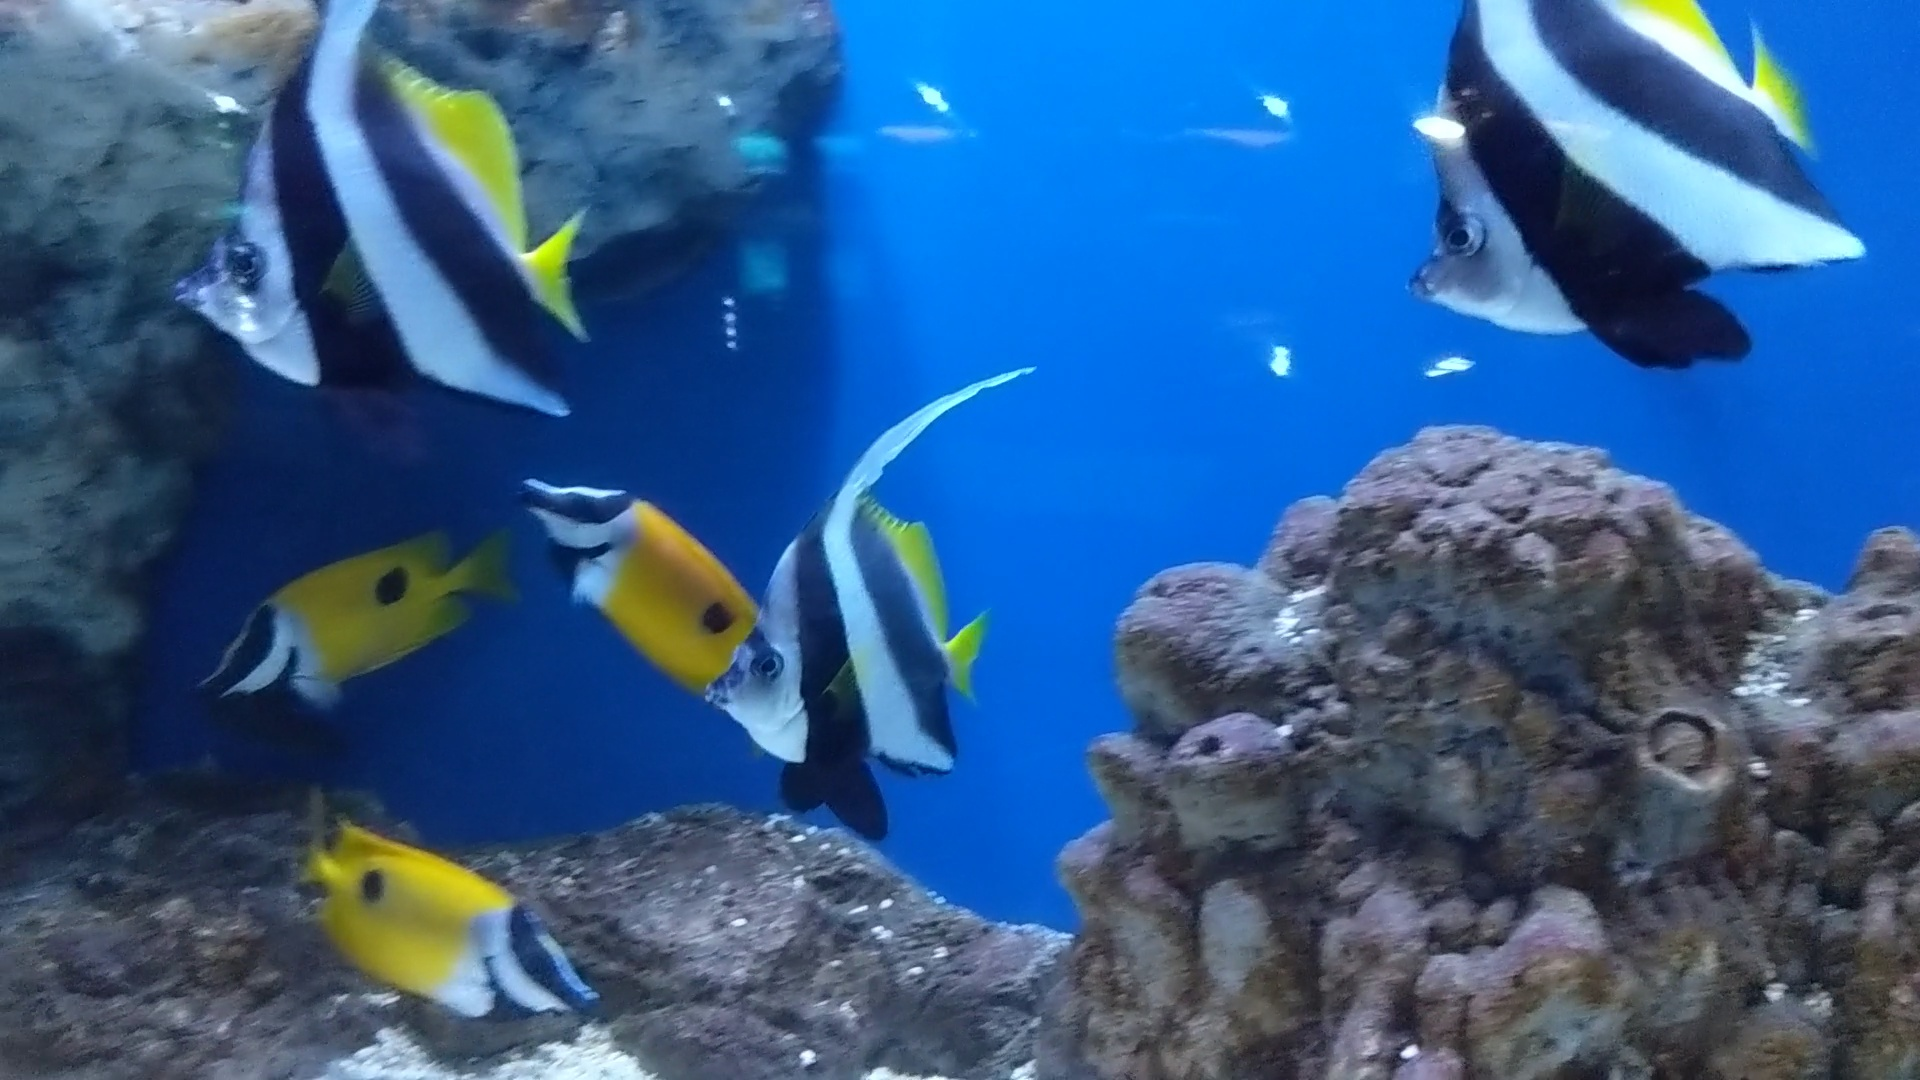moorfish: (1381, 0, 1873, 363), (189, 0, 591, 433), (688, 394, 982, 828)
rabbitfish: (135, 506, 514, 700), (278, 804, 587, 1025), (498, 464, 769, 700)
